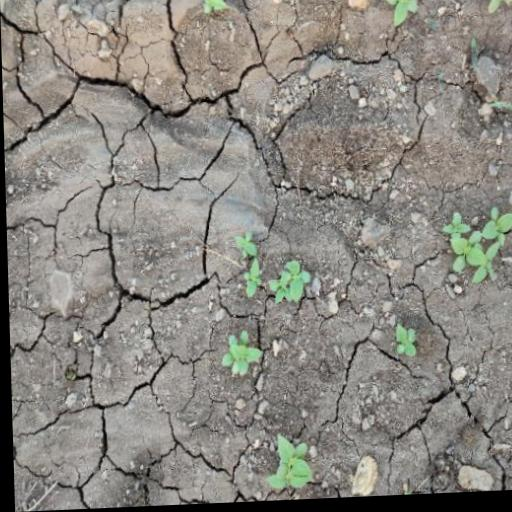crop: (235, 229, 323, 317), (440, 208, 512, 303), (212, 328, 273, 394), (257, 437, 321, 498), (374, 0, 512, 26), (191, 0, 235, 22)
